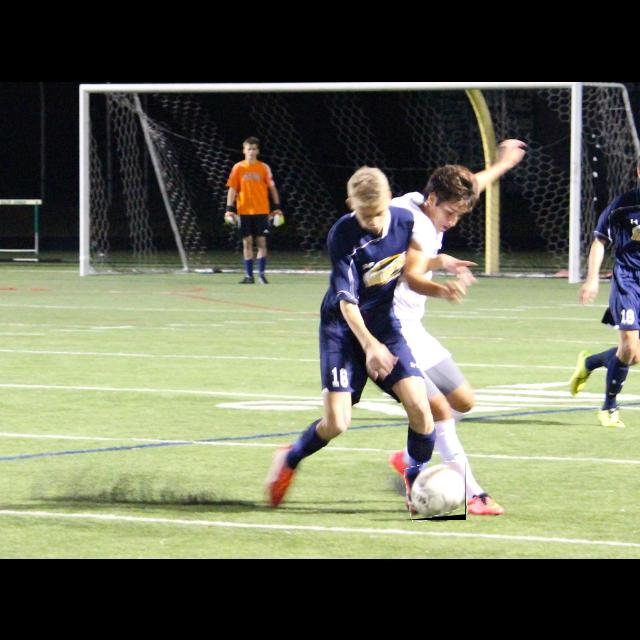Football: (406, 462, 466, 520)
